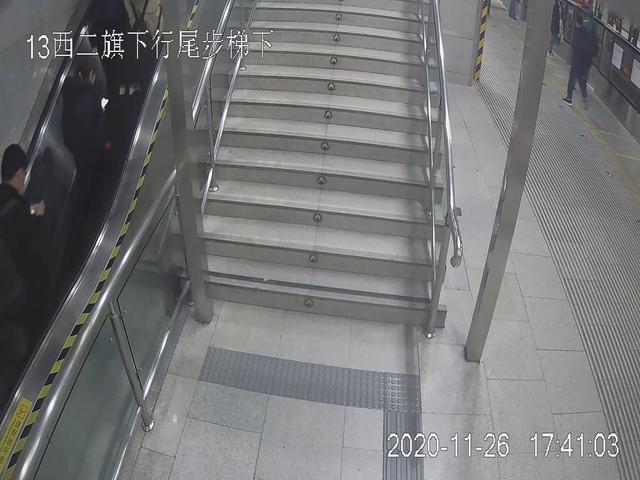person: (560, 7, 595, 107)
